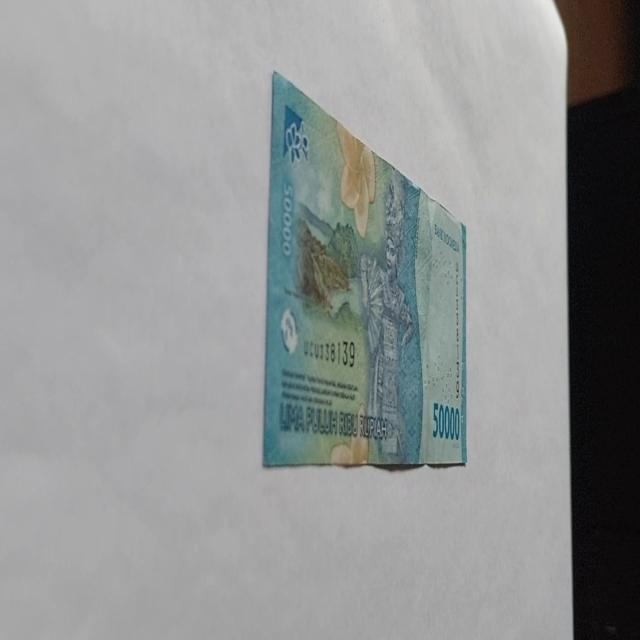lima puluh ribu rupiah: (261, 69, 468, 471)
